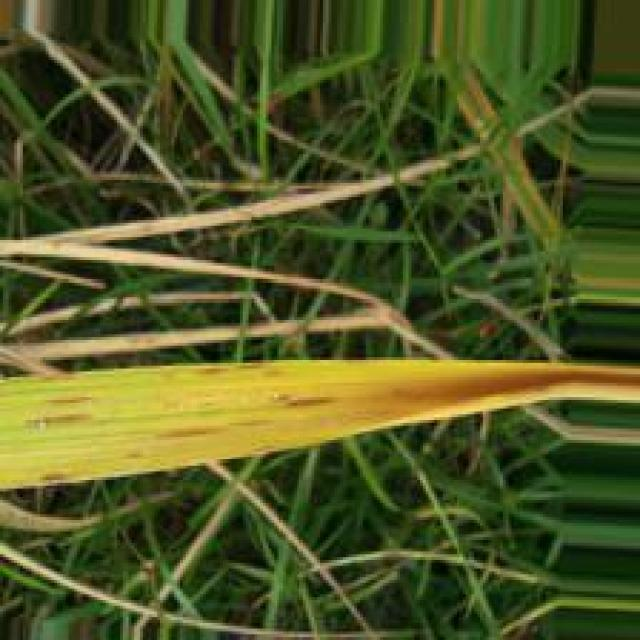Narrow_Brown_Leaf_Spot: (0, 360, 640, 494)
